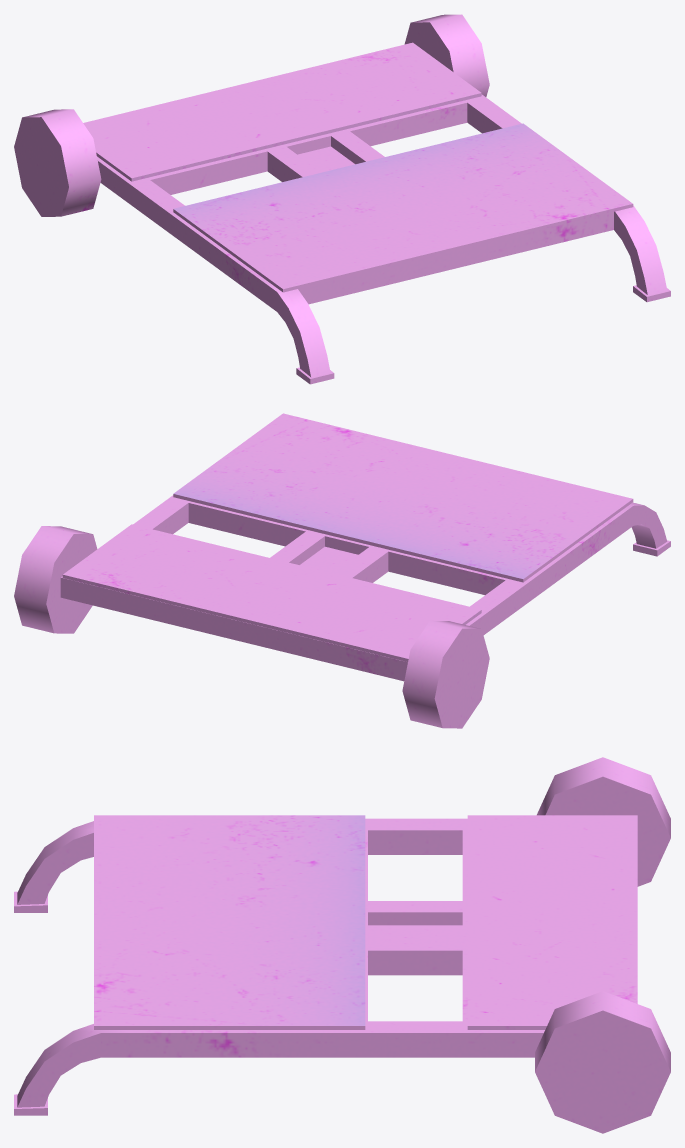
Rendered from LightPoleWeight_02_SM_Low.fbx.
3 views of the same model, one above another, from view 1: azimuth 30°, elevation 25°; view 2: azimuth 150°, elevation 25°; view 3: azimuth 270°, elevation 25° (orthographic). The views are drawn at different scales.
Visible parts, largest first — view 1: MobileWeight; view 2: MobileWeight; view 3: MobileWeight.
Part boxes in pixels (bbox=[...]): MobileWeight: bbox=[14, 14, 670, 384]; MobileWeight: bbox=[14, 413, 670, 728]; MobileWeight: bbox=[14, 757, 670, 1133].
Size of the model in its own units: 176 by 40.04 by 193.
2 materials, 2 textured.
